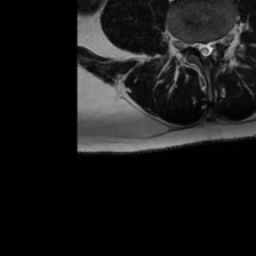CCS_severe_stenosis: (202, 35, 208, 64)
LFS_stenosis: (214, 30, 223, 51)
LLS_normal: (208, 35, 215, 56)
RFS_severe_stenosis: (186, 35, 194, 53)
RLS_normal: (196, 36, 202, 56)
